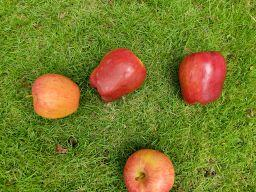apple: (89, 39, 150, 114), (170, 45, 238, 112), (21, 67, 87, 122), (118, 141, 184, 192)
